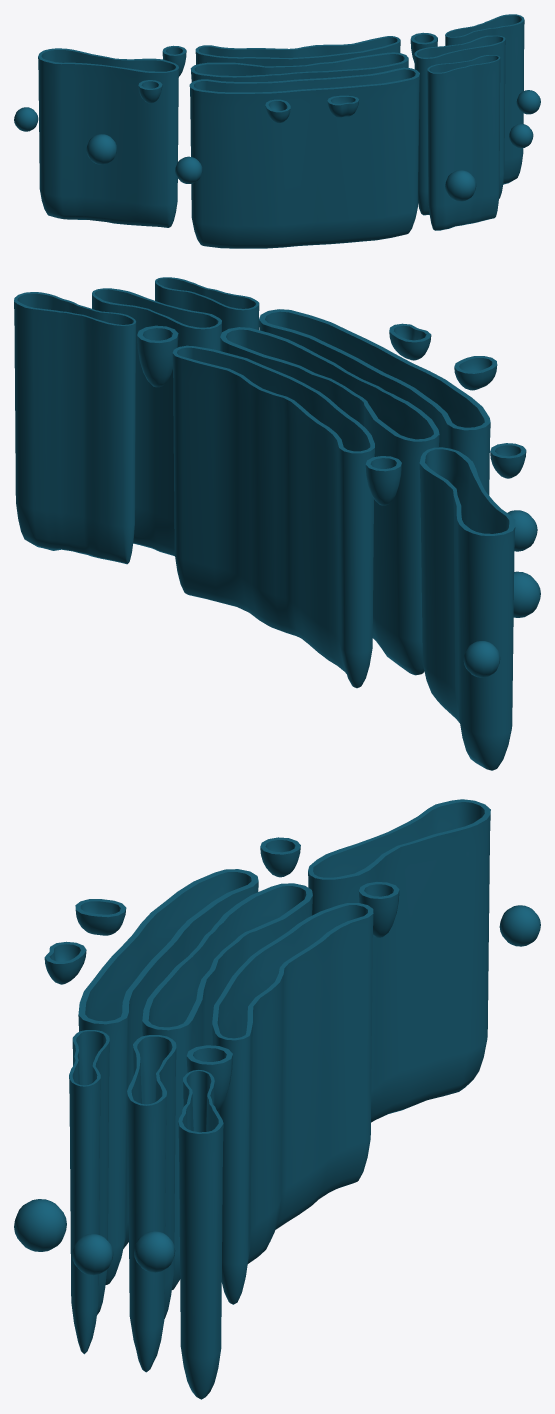
The model's file is Golgi_Apparatus.FBX.
The picture shows the model from 3 angles, top to bottom: view 1: azimuth 30°, elevation 25°; view 2: azimuth 150°, elevation 25°; view 3: azimuth 270°, elevation 25°; orthographic projection. The views are drawn at different scales.
Visible parts, largest first — view 1: Golgi_Apparatus_Cell_Golgi_Piece, Golgi_Apparatus_Cell_Golgi_Piece6, Golgi_Apparatus_Cell_Golgi_Piece8, Golgi_Apparatus_Cell_Golgi_Piece7, Golgi_Piece4_Golgi_Apparatus_Cell, Golgi_Apparatus_Cell_Golgi_Piece9, Golgi_Apparatus_Cell_Golgi_Piece5, Golgi_Apparatus_Cell_Golgi_Sphere, Golgi_Apparatus_Cell_Golgi_Sphere2, Golgi_Apparatus_Cell_Golgi_Sphere1, Golgi_Apparatus_Cell_Golgi_Piece2, Golgi_Apparatus_Cell_Golgi_Piece3 (+6 smaller); view 2: Golgi_Apparatus_Cell_Golgi_Piece5, Golgi_Apparatus_Cell_Golgi_Piece9, Golgi_Apparatus_Cell_Golgi_Piece6, Golgi_Piece4_Golgi_Apparatus_Cell, Golgi_Apparatus_Cell_Golgi_Piece7, Golgi_Apparatus_Cell_Golgi_Piece, Golgi_Apparatus_Cell_Golgi_Piece8, Golgi_Apparatus_Cell_Golgi_Piece1, Golgi_Apparatus_Cell_Golgi_Piece11, Golgi_Apparatus_Cell_Golgi_Piece3, Golgi_Apparatus_Cell_Golgi_Piece2, Golgi_Apparatus_Cell_Golgi_Sphere3 (+3 smaller); view 3: Golgi_Apparatus_Cell_Golgi_Piece5, Golgi_Apparatus_Cell_Golgi_Piece6, Golgi_Apparatus_Cell_Golgi_Piece, Golgi_Apparatus_Cell_Golgi_Piece9, Golgi_Apparatus_Cell_Golgi_Piece7, Golgi_Piece4_Golgi_Apparatus_Cell, Golgi_Apparatus_Cell_Golgi_Piece8, Golgi_Apparatus_Cell_Golgi_Sphere, Golgi_Apparatus_Cell_Golgi_Piece1, Golgi_Apparatus_Cell_Golgi_Piece3, Golgi_Apparatus_Cell_Golgi_Piece11, Golgi_Apparatus_Cell_Golgi_Piece2 (+4 smaller).
Boxes of the visible parts, bbox=[...] form: Golgi_Apparatus_Cell_Golgi_Piece: bbox=[189, 67, 419, 248]; Golgi_Apparatus_Cell_Golgi_Piece6: bbox=[38, 48, 178, 227]; Golgi_Apparatus_Cell_Golgi_Piece8: bbox=[427, 55, 500, 230]; Golgi_Apparatus_Cell_Golgi_Piece7: bbox=[414, 35, 505, 215]; Golgi_Piece4_Golgi_Apparatus_Cell: bbox=[190, 52, 408, 82]; Golgi_Apparatus_Cell_Golgi_Piece9: bbox=[445, 14, 524, 184]; Golgi_Apparatus_Cell_Golgi_Piece5: bbox=[195, 36, 400, 66]; Golgi_Apparatus_Cell_Golgi_Sphere: bbox=[445, 170, 476, 201]; Golgi_Apparatus_Cell_Golgi_Sphere2: bbox=[86, 134, 116, 164]; Golgi_Apparatus_Cell_Golgi_Sphere1: bbox=[175, 156, 202, 183]; Golgi_Apparatus_Cell_Golgi_Piece2: bbox=[327, 95, 359, 117]; Golgi_Apparatus_Cell_Golgi_Piece3: bbox=[265, 99, 290, 123]; Golgi_Apparatus_Cell_Golgi_Piece5: bbox=[172, 345, 374, 688]; Golgi_Apparatus_Cell_Golgi_Piece9: bbox=[14, 292, 136, 564]; Golgi_Apparatus_Cell_Golgi_Piece6: bbox=[419, 447, 515, 770]; Golgi_Piece4_Golgi_Apparatus_Cell: bbox=[220, 327, 439, 675]; Golgi_Apparatus_Cell_Golgi_Piece7: bbox=[92, 288, 221, 556]; Golgi_Apparatus_Cell_Golgi_Piece: bbox=[259, 309, 490, 495]; Golgi_Apparatus_Cell_Golgi_Piece8: bbox=[155, 277, 259, 331]; Golgi_Apparatus_Cell_Golgi_Piece1: bbox=[137, 325, 178, 387]; Golgi_Apparatus_Cell_Golgi_Piece11: bbox=[365, 456, 401, 505]; Golgi_Apparatus_Cell_Golgi_Piece3: bbox=[454, 356, 497, 390]; Golgi_Apparatus_Cell_Golgi_Piece2: bbox=[389, 323, 431, 360]; Golgi_Apparatus_Cell_Golgi_Sphere3: bbox=[463, 641, 500, 677]; Golgi_Apparatus_Cell_Golgi_Piece5: bbox=[212, 903, 373, 1304]; Golgi_Apparatus_Cell_Golgi_Piece6: bbox=[308, 799, 490, 1122]; Golgi_Apparatus_Cell_Golgi_Piece: bbox=[78, 869, 258, 1284]; Golgi_Apparatus_Cell_Golgi_Piece9: bbox=[178, 1070, 223, 1399]; Golgi_Apparatus_Cell_Golgi_Piece7: bbox=[127, 1035, 176, 1372]; Golgi_Piece4_Golgi_Apparatus_Cell: bbox=[142, 883, 312, 1289]; Golgi_Apparatus_Cell_Golgi_Piece8: bbox=[69, 1030, 109, 1354]; Golgi_Apparatus_Cell_Golgi_Sphere: bbox=[14, 1199, 66, 1251]; Golgi_Apparatus_Cell_Golgi_Piece1: bbox=[186, 1045, 232, 1110]; Golgi_Apparatus_Cell_Golgi_Piece3: bbox=[75, 899, 126, 935]; Golgi_Apparatus_Cell_Golgi_Piece11: bbox=[358, 882, 399, 937]; Golgi_Apparatus_Cell_Golgi_Piece2: bbox=[44, 941, 86, 984].
Size of the model in its own units: 62.52 by 23.42 by 40.55.
